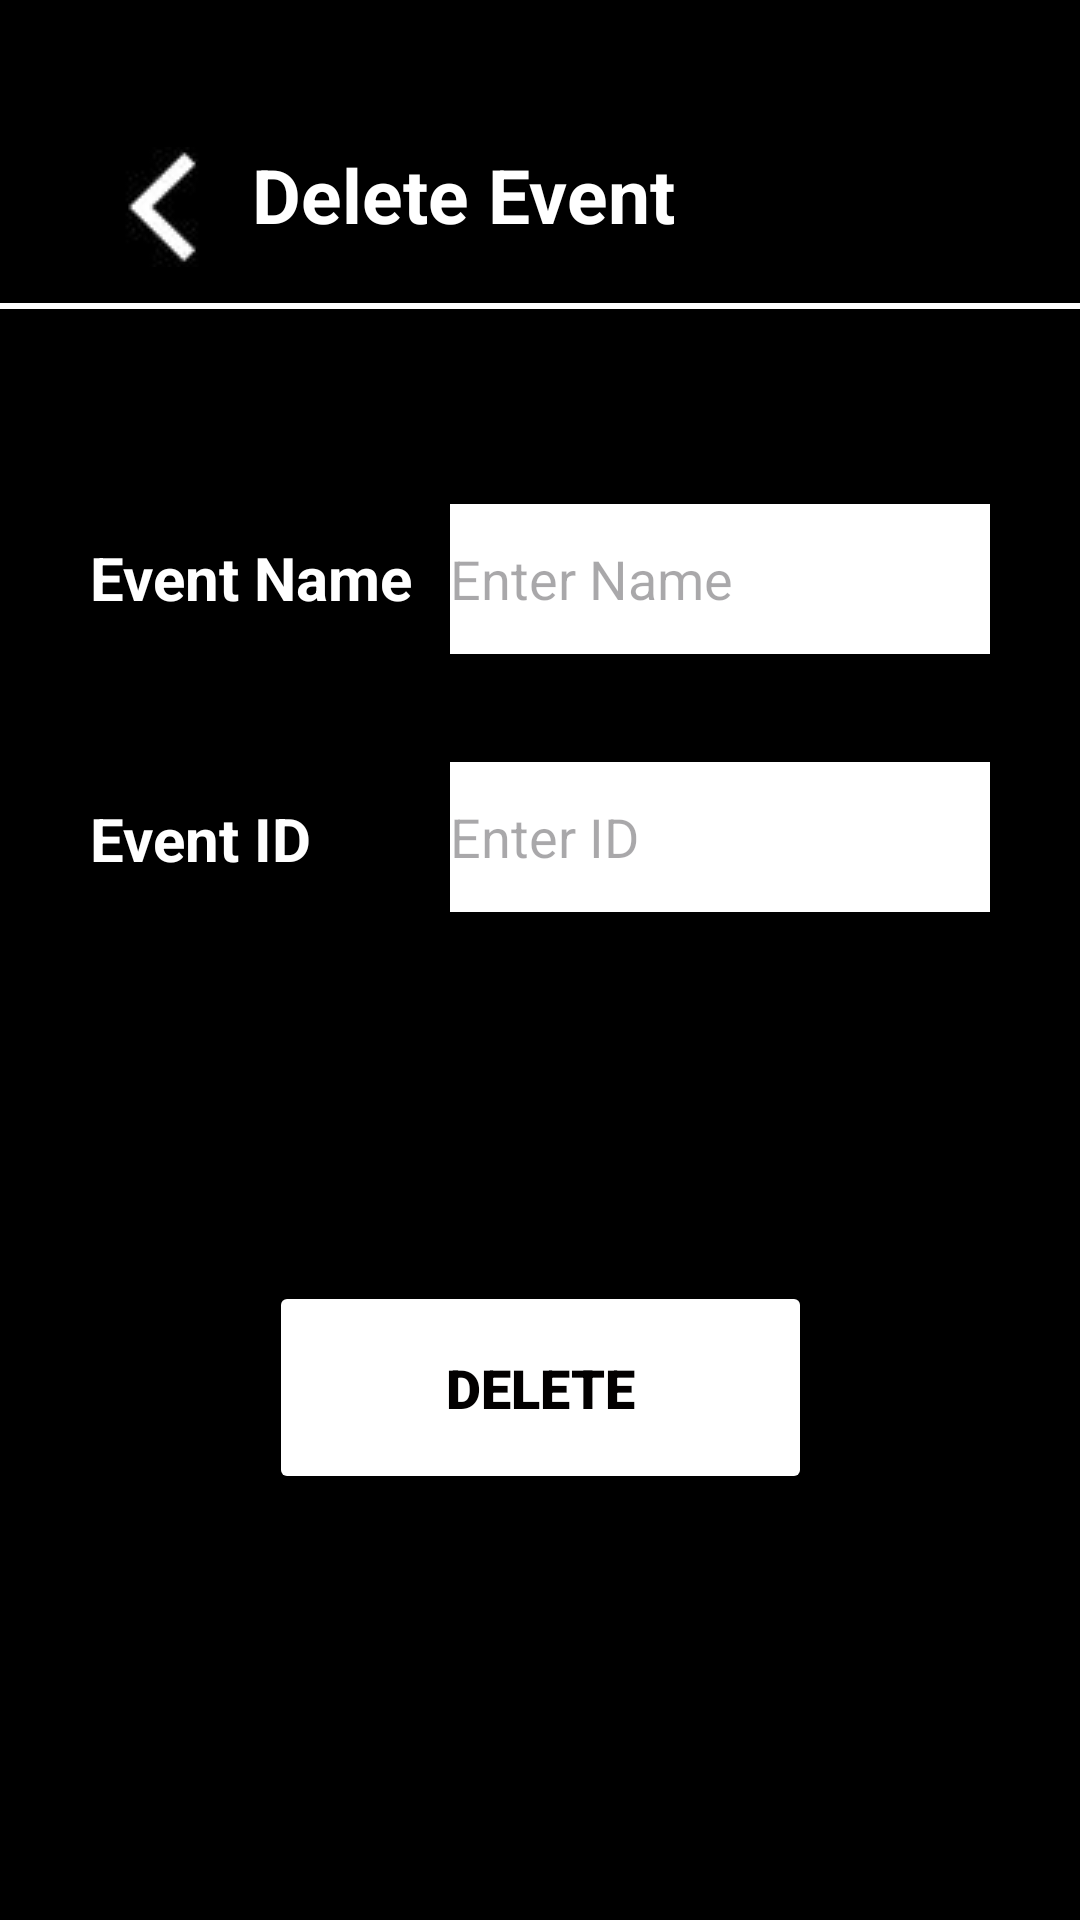

Named icons in this screenshot (1080x1920) and their bounding boxes, Rect(x1, y1, x2, y2):
back: Rect(128, 152, 196, 262)
